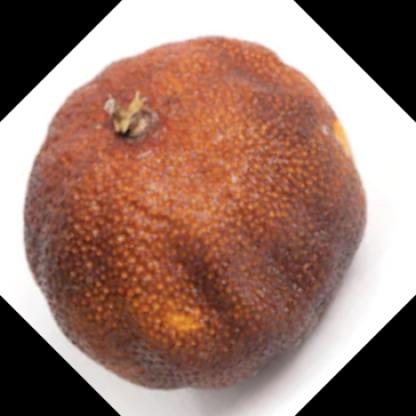rotten: (22, 37, 368, 389)
